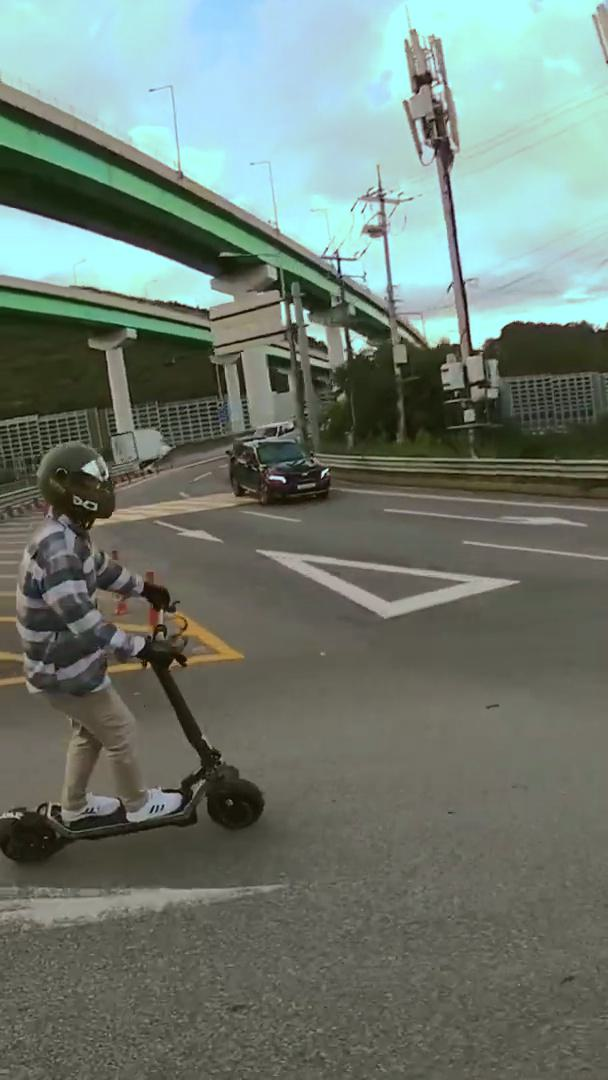helmet: (0, 439, 263, 861)
